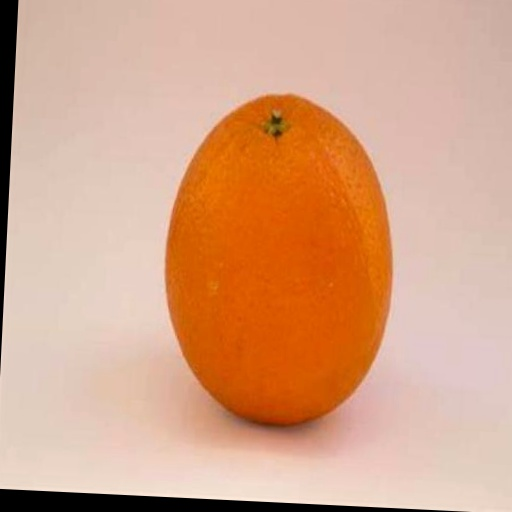fruit: (165, 95, 391, 423)
